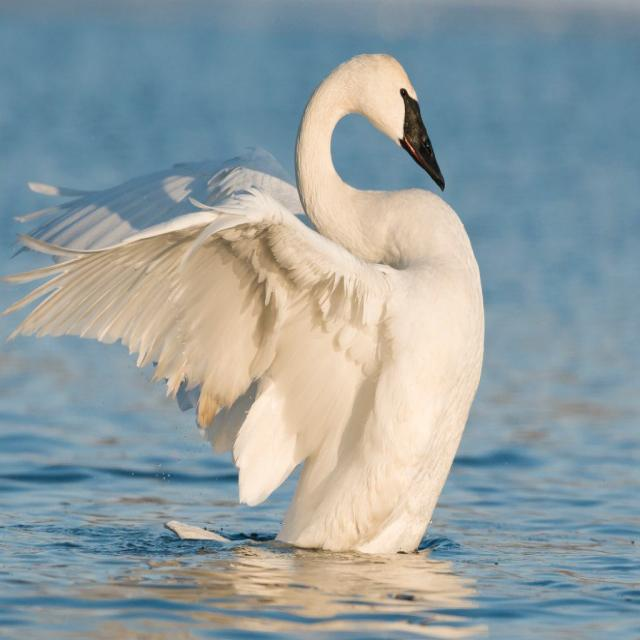swan: (3, 54, 483, 552)
